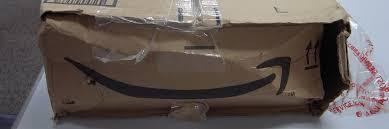damage_box: (35, 0, 355, 119)
